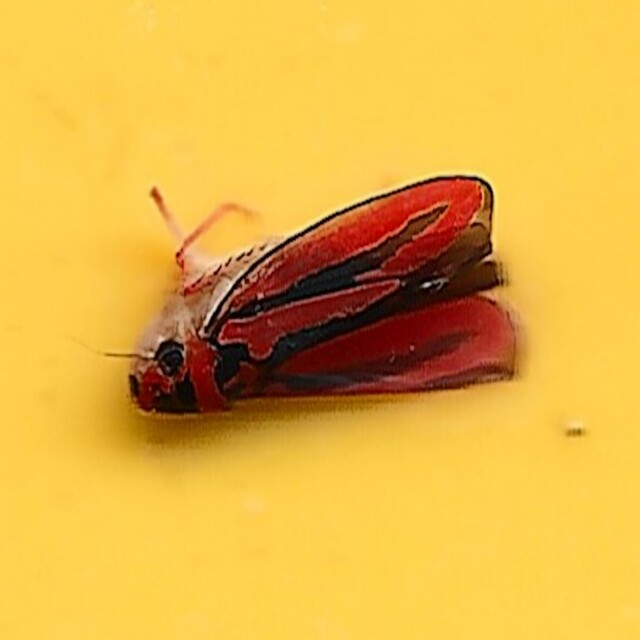Hemiptera: (122, 175, 518, 465)
